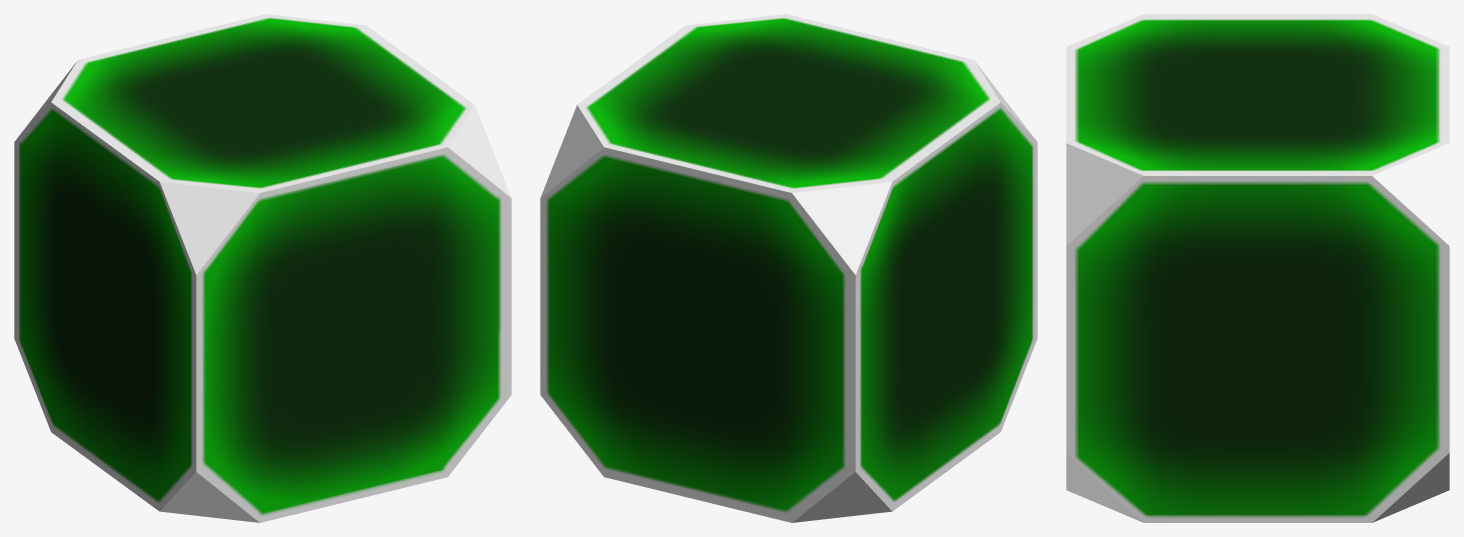
The model's file is MG-ChJ-CS-01FangKuai-1.FBX.
The picture shows the model from 3 angles, left to right: view 1: azimuth 30°, elevation 25°; view 2: azimuth 150°, elevation 25°; view 3: azimuth 270°, elevation 25°; orthographic projection. The views are drawn at different scales.
Visible parts, largest first — view 1: MG-ChJ-CS-01FangKuai-1; view 2: MG-ChJ-CS-01FangKuai-1; view 3: MG-ChJ-CS-01FangKuai-1.
Part boxes in pixels (x1,y1,x2,y2): MG-ChJ-CS-01FangKuai-1: (14, 14, 511, 522); MG-ChJ-CS-01FangKuai-1: (540, 14, 1037, 522); MG-ChJ-CS-01FangKuai-1: (1066, 14, 1449, 522).
Bounding box in the file's own units: 39.37 × 39.37 × 39.37.
